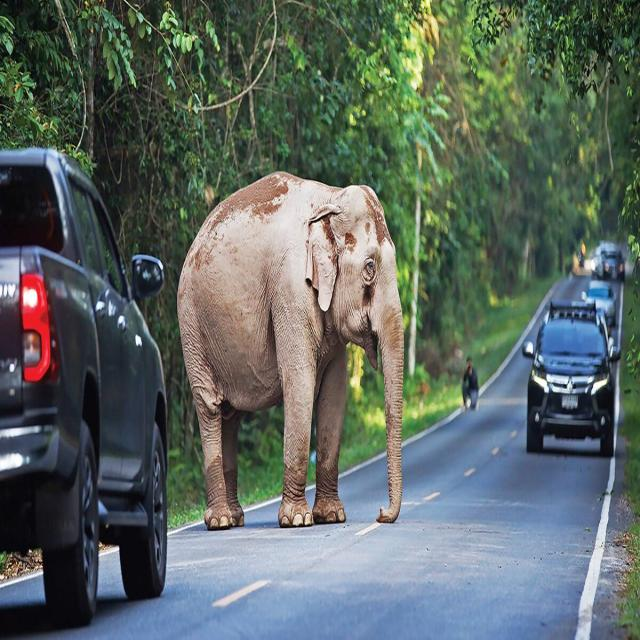Elephant: (174, 176, 407, 530)
